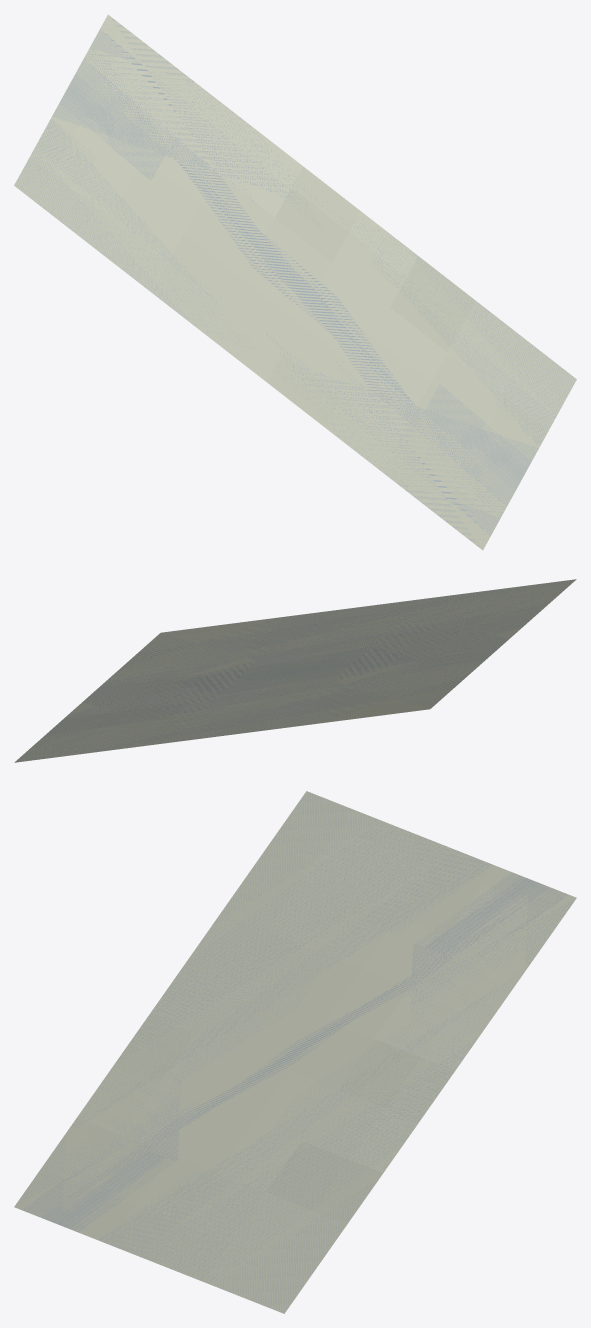
Rendered from 人民英雄纪念碑217.dae.
3 views of the same model, one above another, from view 1: azimuth 30°, elevation 25°; view 2: azimuth 150°, elevation 25°; view 3: azimuth 270°, elevation 25° (orthographic). The views are drawn at different scales.
Parts seen in each view (by area): view 1: SketchUp; view 2: SketchUp; view 3: SketchUp.
Part boxes in pixels (<box>): SketchUp: <box>14,14,576,550</box>; SketchUp: <box>14,579,576,762</box>; SketchUp: <box>14,791,576,1313</box>.
Bounding box in the file's own units: 17.98 × 17.89 × 9.96.
